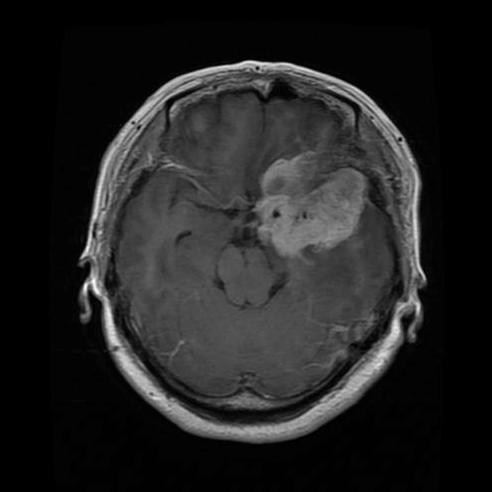Tumour-Meningioma: (239, 140, 380, 277)
